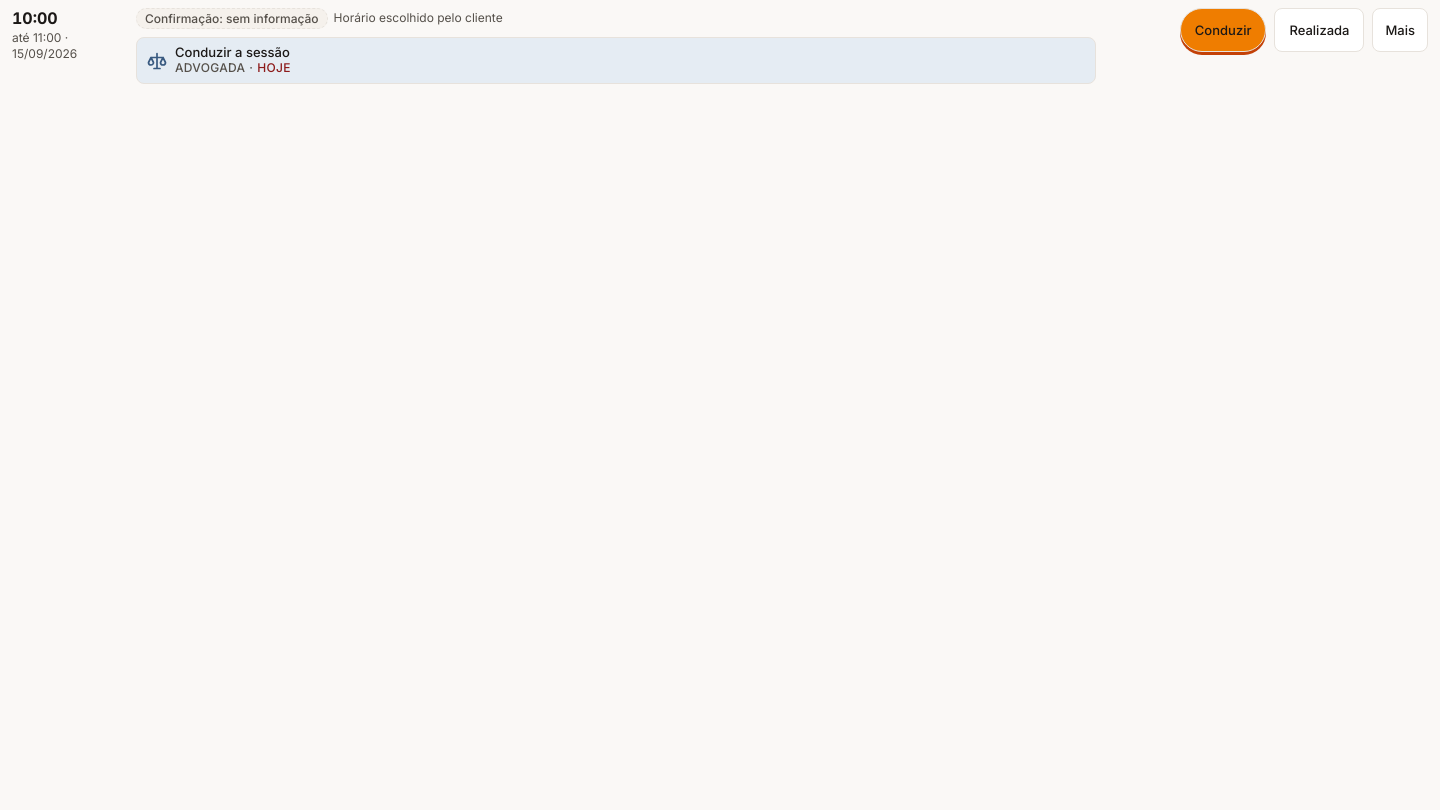
Scenario: LinhaAgendamento — 'Realizada' confirma antes de agir (15/09) › clicar em 'Realizada' NÃO muda o status de imediato — abre a confirmação
The width and height of the screenshot is (1440, 810).
Click the button "Realizada". click: (1320, 30)
box: [1274,8,1364,52]
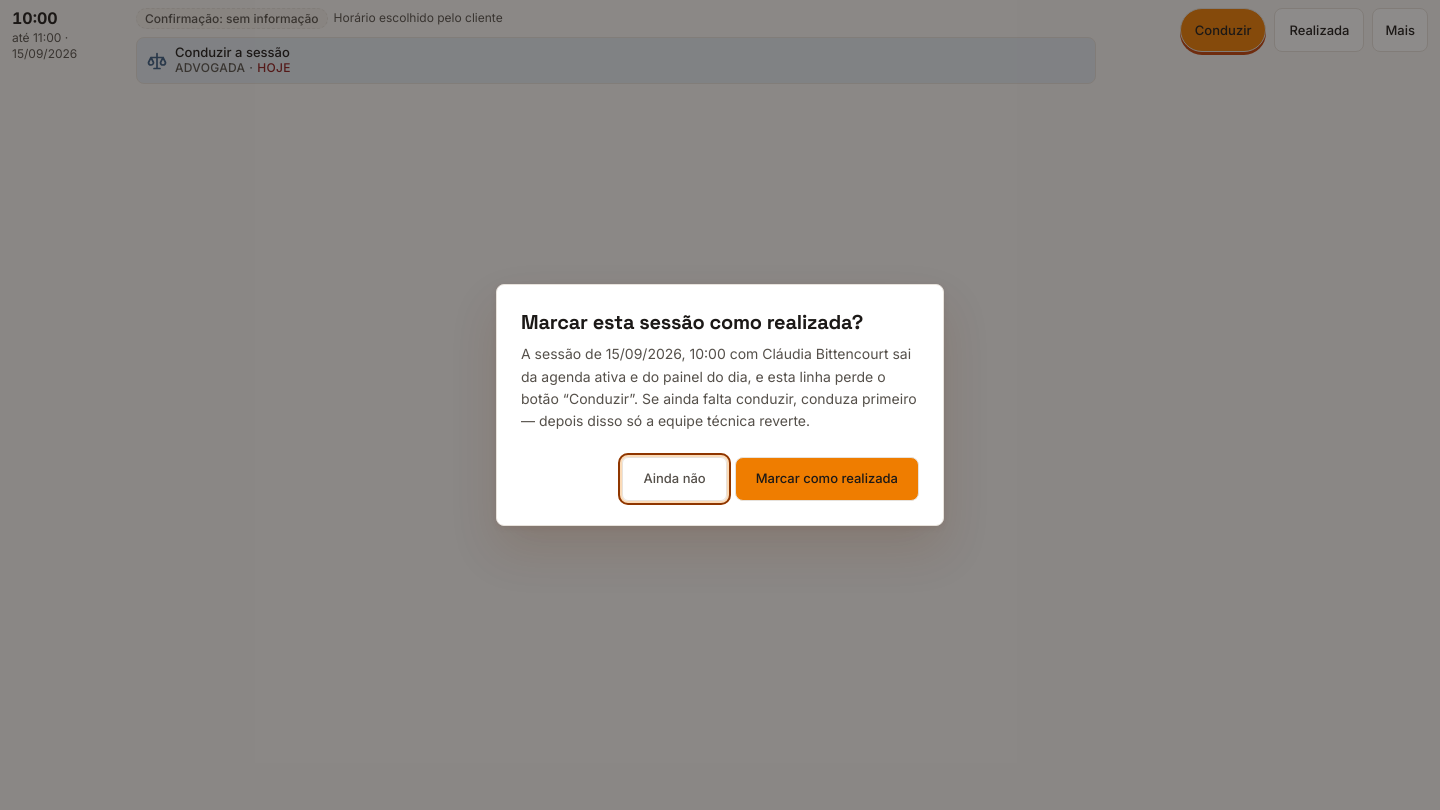
Check: the dialog is shown, box [496,284,944,526]
